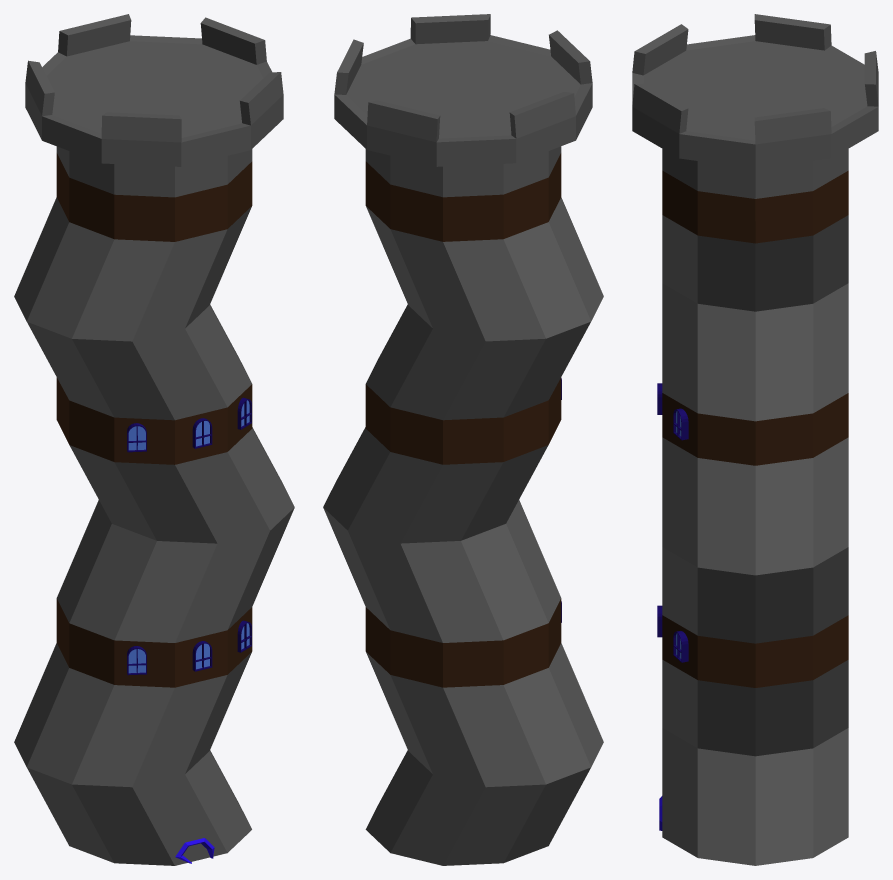
The model's file is Tower.glb.
3 renders of one model, left to right at view 1: azimuth 30°, elevation 25°; view 2: azimuth 150°, elevation 25°; view 3: azimuth 270°, elevation 25°, orthographic.
Parts seen in each view (by area): view 1: Cylinder; view 2: Cylinder; view 3: Cylinder.
Part boxes in pixels (x1,y1,x2,y2): Cylinder: (14,14,294,865); Cylinder: (323,14,603,865); Cylinder: (632,14,878,865).
Bounding box in the file's own units: 12 × 34.08 × 10.04.
